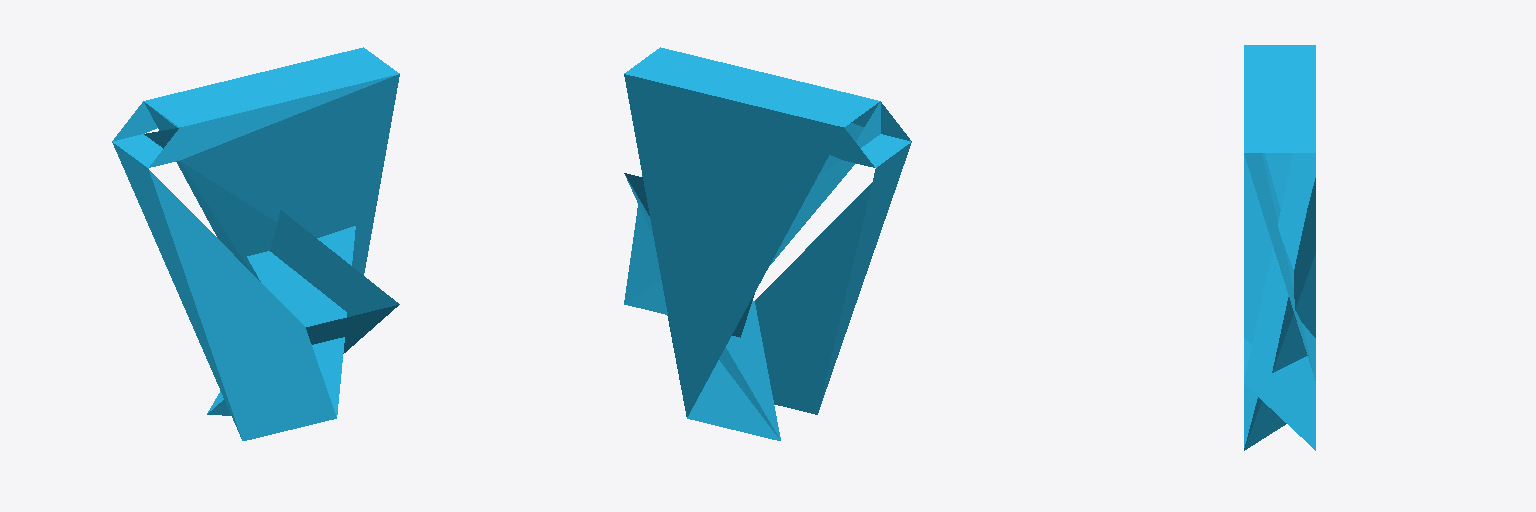
The picture shows the model from 3 angles: view 1: azimuth 30°, elevation 25°; view 2: azimuth 150°, elevation 25°; view 3: azimuth 270°, elevation 25°; orthographic projection.
Bounding box in the file's own units: 8 × 10 × 2.
1 materials, 1 textured.